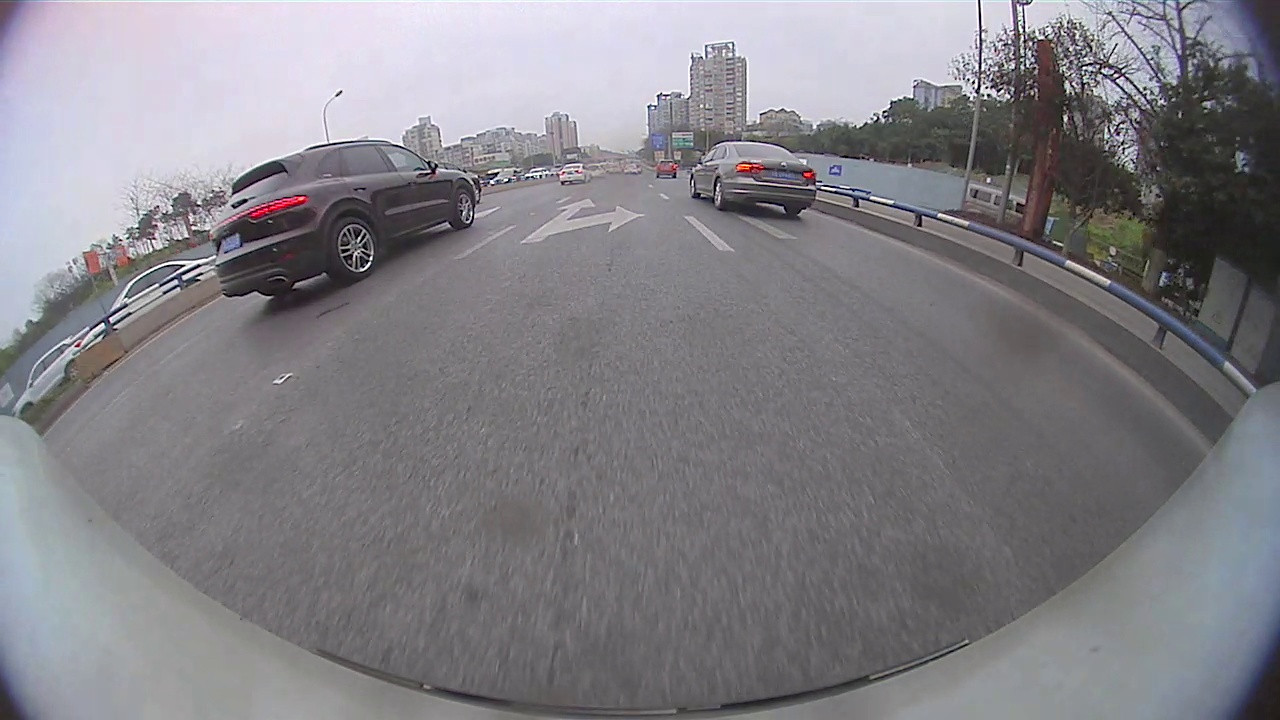car: (207, 137, 479, 302), (81, 254, 220, 353), (687, 139, 819, 220), (9, 331, 85, 421)
front: (450, 190, 477, 231), (688, 175, 700, 200)
rear: (326, 218, 376, 282), (64, 357, 84, 384), (710, 177, 726, 210)
